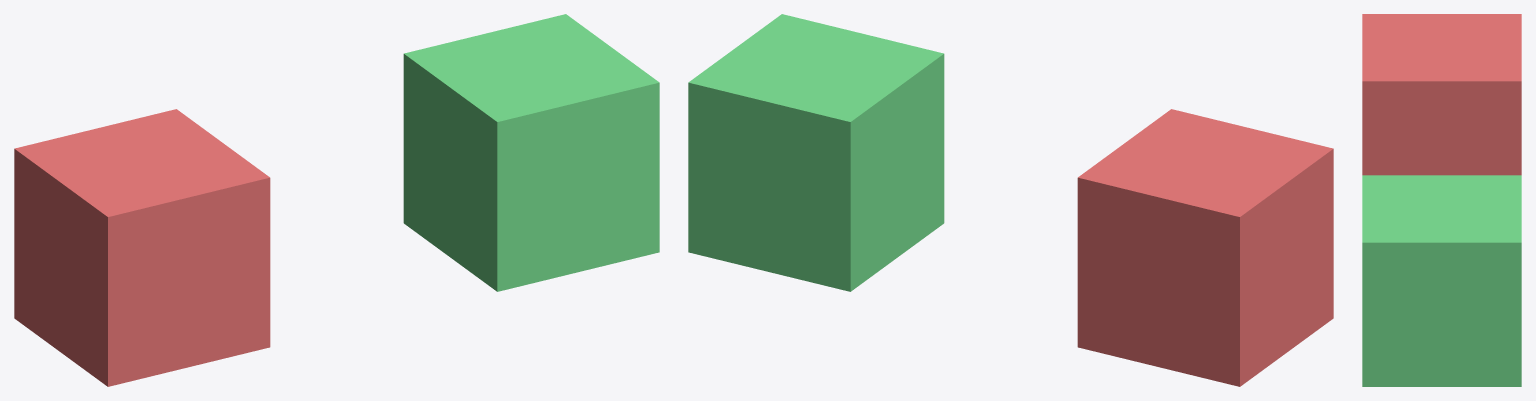
File: test_double_sided.gltf
3 views of the same model, side by side, from view 1: azimuth 30°, elevation 25°; view 2: azimuth 150°, elevation 25°; view 3: azimuth 270°, elevation 25° (orthographic). The views are drawn at different scales.
Size of the model in its own units: 3.4 by 1 by 1.
